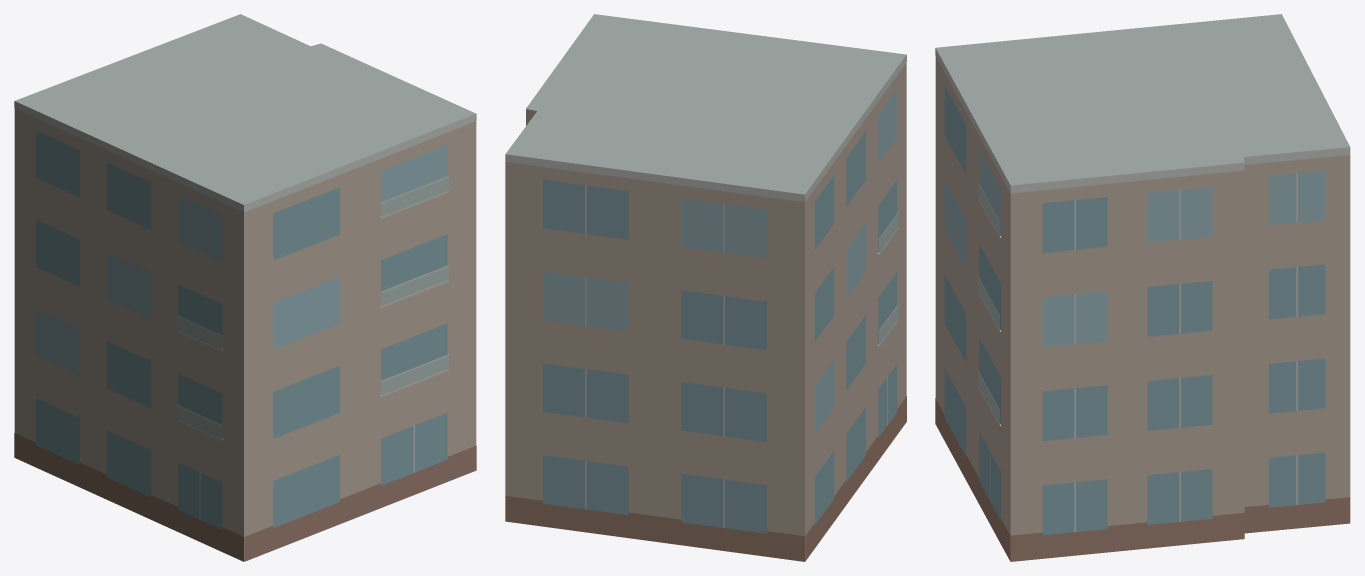
Rendered from survey-upis-32538158.glb.
3 views of the same model, side by side, from view 1: azimuth 30°, elevation 25°; view 2: azimuth 150°, elevation 25°; view 3: azimuth 270°, elevation 25° (orthographic). The views are drawn at different scales.
Parts seen in each view (by area): view 1: survey-upis-32538158.tmp; view 2: survey-upis-32538158.tmp; view 3: survey-upis-32538158.tmp.
Boxes of the visible parts, left/top/right/bottom form: survey-upis-32538158.tmp: left=14, top=14, right=476, bottom=561; survey-upis-32538158.tmp: left=505, top=14, right=906, bottom=561; survey-upis-32538158.tmp: left=935, top=14, right=1350, bottom=561.
Size of the model in its own units: 11.45 by 11.7 by 11.7.
